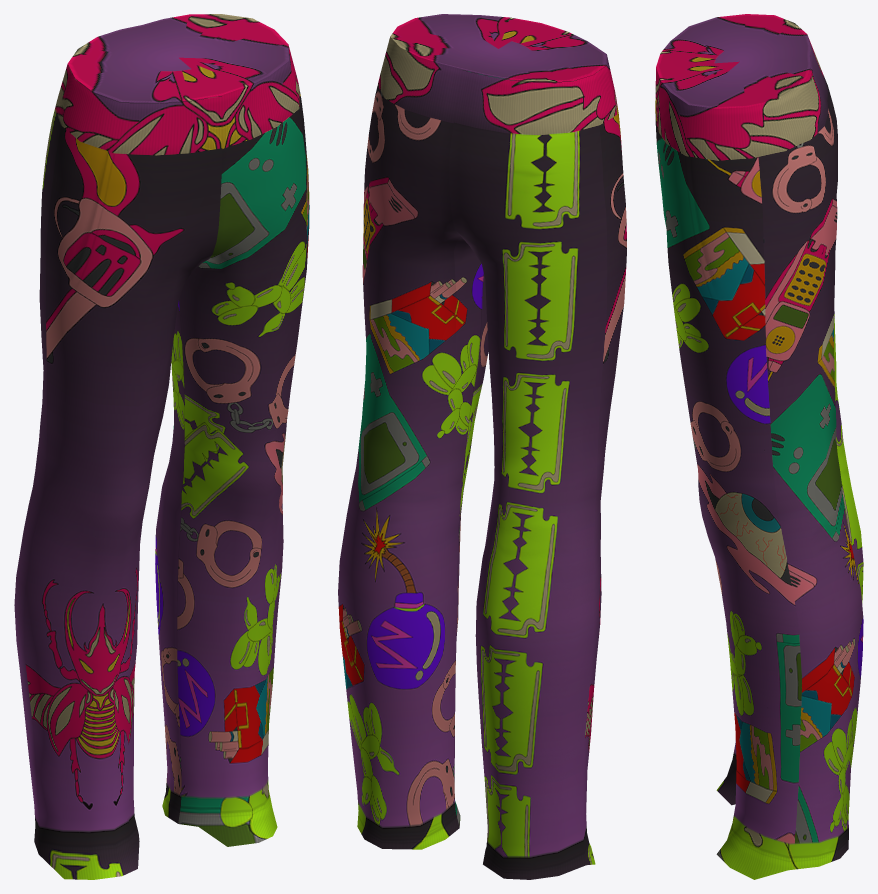
Rendered from 122_pants.glb.
The picture shows the model from 3 angles, left to right: view 1: azimuth 30°, elevation 25°; view 2: azimuth 150°, elevation 25°; view 3: azimuth 270°, elevation 25°; orthographic projection. The views are drawn at different scales.
Parts seen in each view (by area): view 1: pants; view 2: pants; view 3: pants.
Boxes of the visible parts, bbox=[...] form: pants: bbox=[14, 14, 309, 879]; pants: bbox=[338, 14, 626, 879]; pants: bbox=[655, 14, 863, 879].
Bounding box in the file's own units: 0.3276 × 1 × 0.2442.
1 material, 1 textured.
